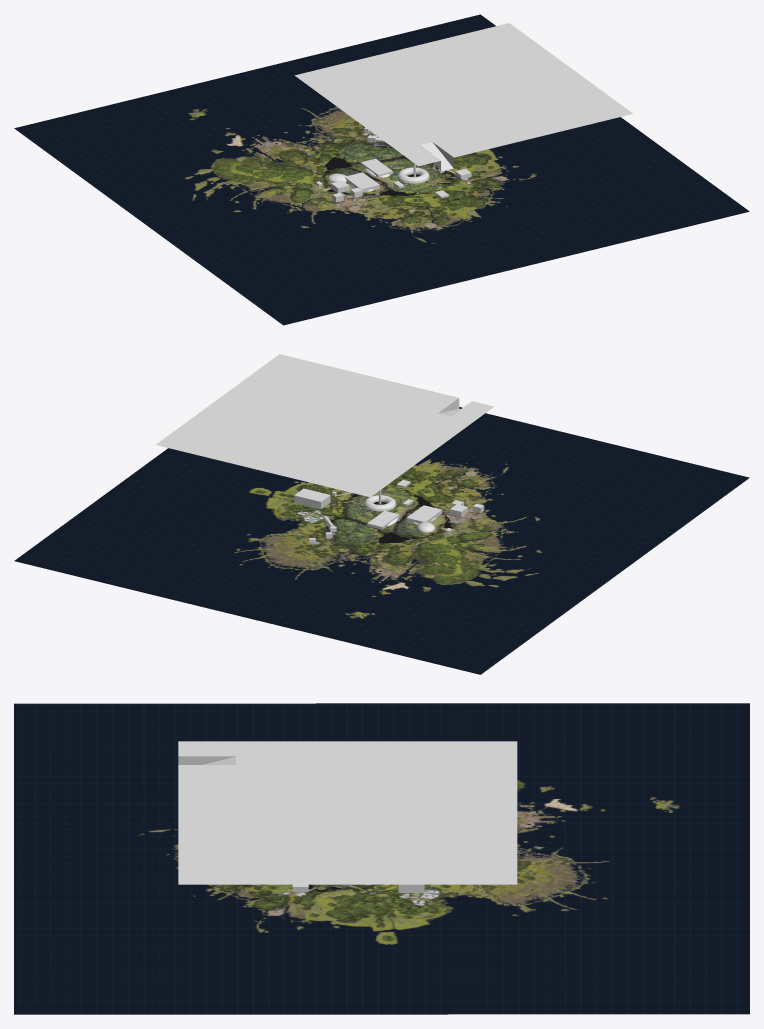
File: cycle tharis.glb
3 views of the same model, one above another, from view 1: azimuth 30°, elevation 25°; view 2: azimuth 150°, elevation 25°; view 3: azimuth 270°, elevation 25° (orthographic). The views are drawn at different scales.
Parts seen in each view (by area): view 1: tharisBigMap, testPlane; view 2: tharisBigMap, testPlane, OsirisResearchCenter; view 3: tharisBigMap, testPlane.
Boxes of the visible parts, <box> form: tharisBigMap: <box>14,14,749,325</box>; testPlane: <box>294,23,633,171</box>; tharisBigMap: <box>14,407,749,674</box>; testPlane: <box>156,354,494,497</box>; OsirisResearchCenter: <box>294,488,330,509</box>; tharisBigMap: <box>14,703,749,1014</box>; testPlane: <box>178,741,517,884</box>.
Bounding box in the file's own units: 256 × 49.28 × 256.
Materials: 4 (1 with a texture image).
